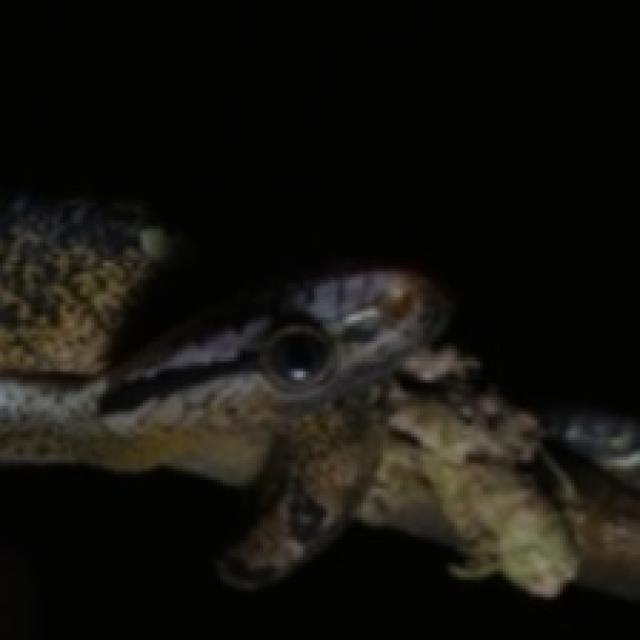dog-toothed cat snake: (0, 197, 637, 637)
